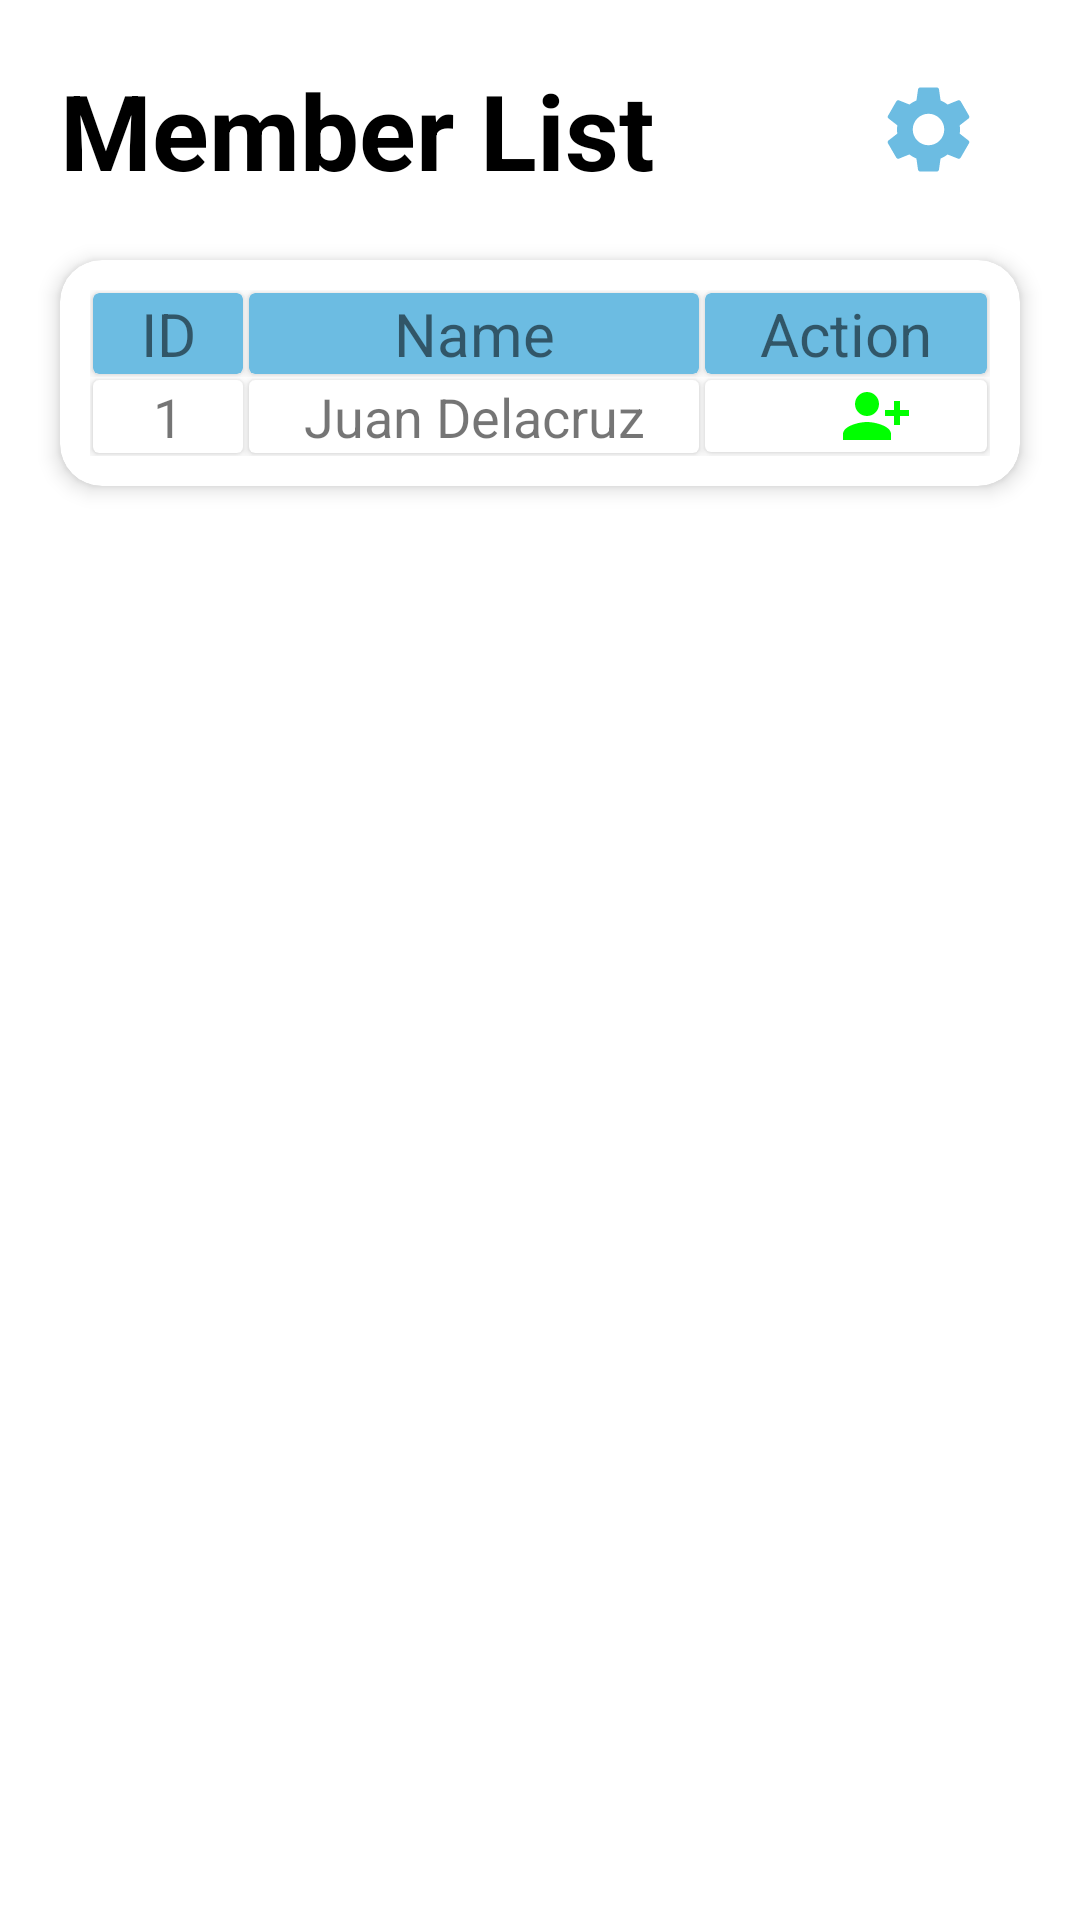

Icons on this 1080 × 1920 Android screen, each with the point to tap as [x,y]:
settings: [928,129]
